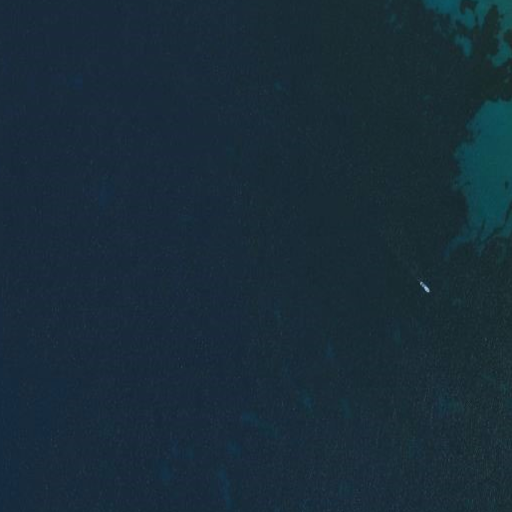ship: (418, 280, 431, 295)
